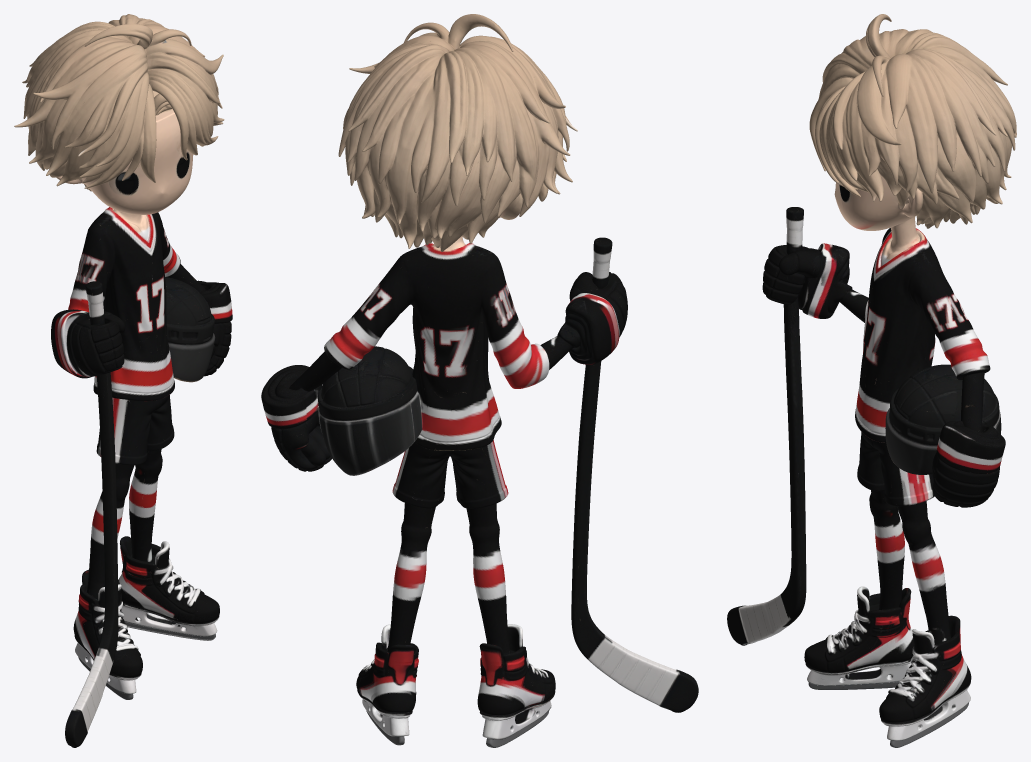
File: 1skinny hockey player.glb
The picture shows the model from 3 angles, left to right: view 1: azimuth 30°, elevation 25°; view 2: azimuth 150°, elevation 25°; view 3: azimuth 270°, elevation 25°; orthographic projection. The views are drawn at different scales.
Size of the model in its own units: 0.8429 by 1.9 by 0.7301.
1 material, 1 textured.
